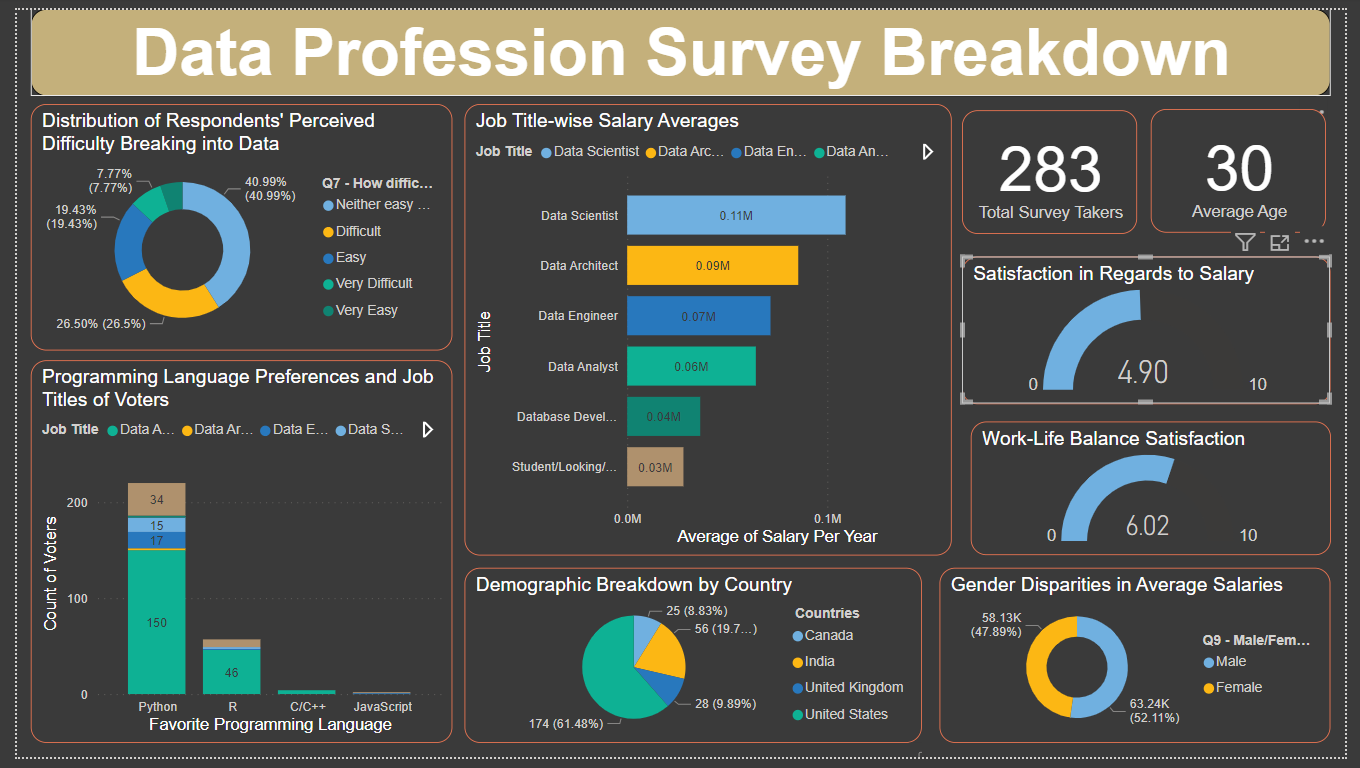

The dashboard page shown, as its layout file describes it:
{"tool":"powerbi","page":{"name":"Page 1","canvas":[1280,720],"ordinal":0},"visuals":[{"type":"card","fields":{"Values":["Count(Sheet1.Unique ID)"]},"box":[910.8,97.6,168.7,119.3],"z":0},{"type":"pieChart","title":"Demographic Breakdown by Country","fields":{"Y":["CountNonNull(Sheet1.Unique ID)"],"Series":["Sheet1.Q11 - Which Country do you live in?"]},"box":[431.5,538.4,441.1,168.5],"z":1000},{"type":"textbox","title":"Data Profession Survey Breakdown","box":[13.3,0,1253,84.3],"z":2000},{"type":"card","fields":{"Values":["Sheet1.Average Age"]},"box":[1092.8,96.4,168.7,119.3],"z":3000},{"type":"barChart","title":"Job Title-wise Salary Averages","fields":{"Category":["Sheet1.Q1 - Which Title Best Fits your Current Role?"],"Y":["Avg(Sheet1.Salary Per Year)"],"Series":["Sheet1.Q1 - Which Title Best Fits your Current Role?"]},"box":[431.3,91.6,469.9,434.9],"z":4000},{"type":"columnChart","title":"Programming Language Preferences and Job Titles of Voters","fields":{"Category":["Sheet1.Q5 - Favorite Programming Language"],"Y":["CountNonNull(Sheet1.Unique ID)"],"Series":["Sheet1.Q1 - Which Title Best Fits your Current Role?"]},"box":[13.3,338.6,406,368.7],"z":5000},{"type":"gauge","title":"Work-Life Balance Satisfaction","fields":{"Y":["Avg(Sheet1.Q6 - How Happy are you in your Current Position with the following? (Work/Life Balance))"],"MinValue":["Min(Sheet1.Q6 - How Happy are you in your Current Position with the following? (Work/Life Balance))"],"MaxValue":["Max(Sheet1.Q6 - How Happy are you in your Current Position with the following? (Work/Life Balance))"]},"box":[919.3,397.6,347,128.9],"z":6000},{"type":"gauge","title":"Satisfaction in Regards to Salary","fields":{"Y":["Avg(Sheet1.Q6 - How Happy are you in your Current Position with the following? (Upward Mobility))"],"MinValue":["Min(Sheet1.Q6 - How Happy are you in your Current Position with the following? (Upward Mobility))"],"MaxValue":["Max(Sheet1.Q6 - How Happy are you in your Current Position with the following? (Upward Mobility))"]},"box":[910.8,238.6,355.4,142.2],"z":7000},{"type":"donutChart","title":"Gender Disparities in Average Salaries","fields":{"Category":["Sheet1.Q9 - Male/Female?"],"Y":["Avg(Sheet1.Salary Per Year)"]},"box":[889,538.4,376.7,168.5],"z":8000},{"type":"donutChart","title":"Distribution of Respondents'' Perceived Difficulty Breaking into Data","fields":{"Category":["Sheet1.Q7 - How difficult was it for you to break into Data?"],"Y":["CountNonNull(Sheet1.Unique ID)"]},"box":[13.3,91.6,406,237.3],"z":9000},{"type":"qnaVisual","box":[860.2,707.2,12,13.3],"z":9001}]}

Visuals, with their boxes in screenshot pixels (x1, y1, x2, y2), scaled from the page's 1280x720 canvas onto the 1360x768 screenshot:
card - Count(Sheet1.Unique ID): bbox=(968, 104, 1147, 231)
"Demographic Breakdown by Country" pieChart: bbox=(458, 574, 927, 754)
"Data Profession Survey Breakdown" textbox: bbox=(14, 0, 1345, 90)
card - Sheet1.Average Age: bbox=(1161, 103, 1340, 230)
"Job Title-wise Salary Averages" barChart: bbox=(458, 98, 958, 562)
"Programming Language Preferences and Job Titles of Voters" columnChart: bbox=(14, 361, 446, 754)
"Work-Life Balance Satisfaction" gauge: bbox=(977, 424, 1345, 562)
"Satisfaction in Regards to Salary" gauge: bbox=(968, 255, 1345, 406)
"Gender Disparities in Average Salaries" donutChart: bbox=(945, 574, 1345, 754)
"Distribution of Respondents'' Perceived Difficulty Breaking into Data" donutChart: bbox=(14, 98, 446, 351)
qnaVisual: bbox=(914, 754, 927, 767)
